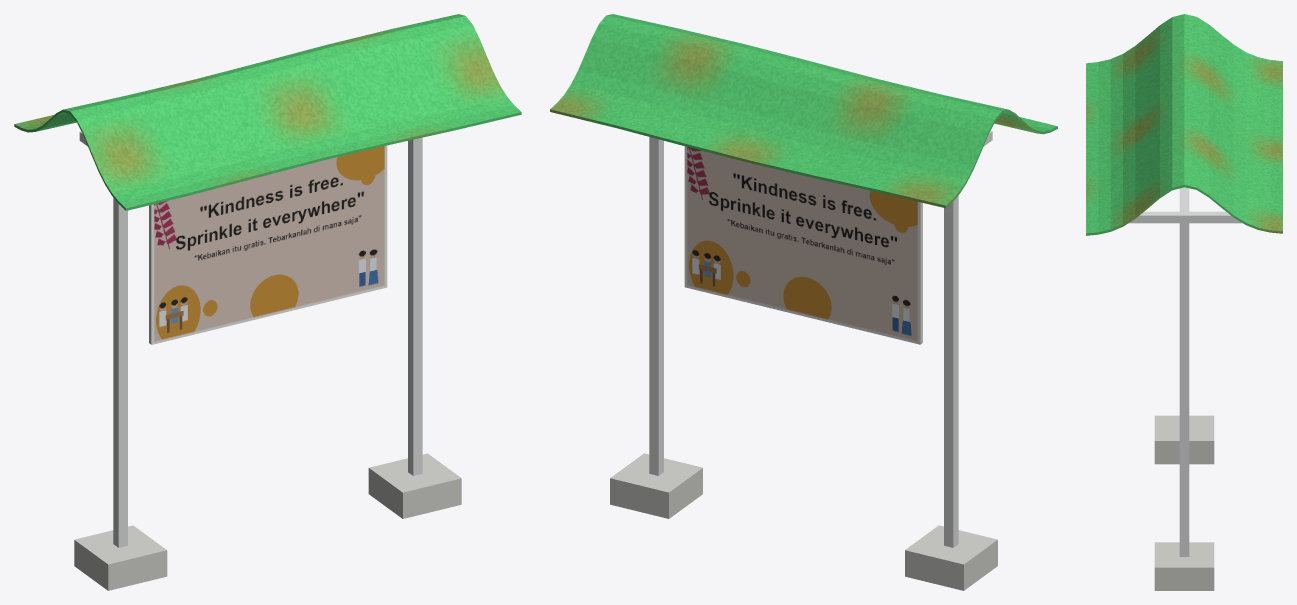
The model's file is plank_motivasi.glb.
The picture shows the model from 3 angles, left to right: view 1: azimuth 30°, elevation 25°; view 2: azimuth 150°, elevation 25°; view 3: azimuth 270°, elevation 25°; orthographic projection. The views are drawn at different scales.
Parts seen in each view (by area): view 1: Atap_Seng_Hijau_Plank, Papan_Motivasi_Kindness, Rangka_Tiang_Besi_PutihAbu, Umpak_Beton_Kaki_Plank; view 2: Atap_Seng_Hijau_Plank, Papan_Motivasi_Kindness, Rangka_Tiang_Besi_PutihAbu, Umpak_Beton_Kaki_Plank; view 3: Atap_Seng_Hijau_Plank, Umpak_Beton_Kaki_Plank, Rangka_Tiang_Besi_PutihAbu.
Part boxes in pixels (left/top/right/bottom): Atap_Seng_Hijau_Plank: left=14, top=14, right=521, bottom=210; Papan_Motivasi_Kindness: left=151, top=145, right=387, bottom=344; Rangka_Tiang_Besi_PutihAbu: left=79, top=131, right=422, bottom=547; Umpak_Beton_Kaki_Plank: left=74, top=453, right=461, bottom=590; Atap_Seng_Hijau_Plank: left=550, top=14, right=1057, bottom=208; Papan_Motivasi_Kindness: left=684, top=146, right=920, bottom=344; Rangka_Tiang_Besi_PutihAbu: left=649, top=131, right=992, bottom=547; Umpak_Beton_Kaki_Plank: left=610, top=453, right=997, bottom=590; Atap_Seng_Hijau_Plank: left=1086, top=14, right=1282, bottom=235; Umpak_Beton_Kaki_Plank: left=1154, top=415, right=1214, bottom=590; Rangka_Tiang_Besi_PutihAbu: left=1129, top=187, right=1242, bottom=556.
Bounding box in the file's own units: 0.94 × 1.07 × 0.46.
5 materials, 2 textured.
